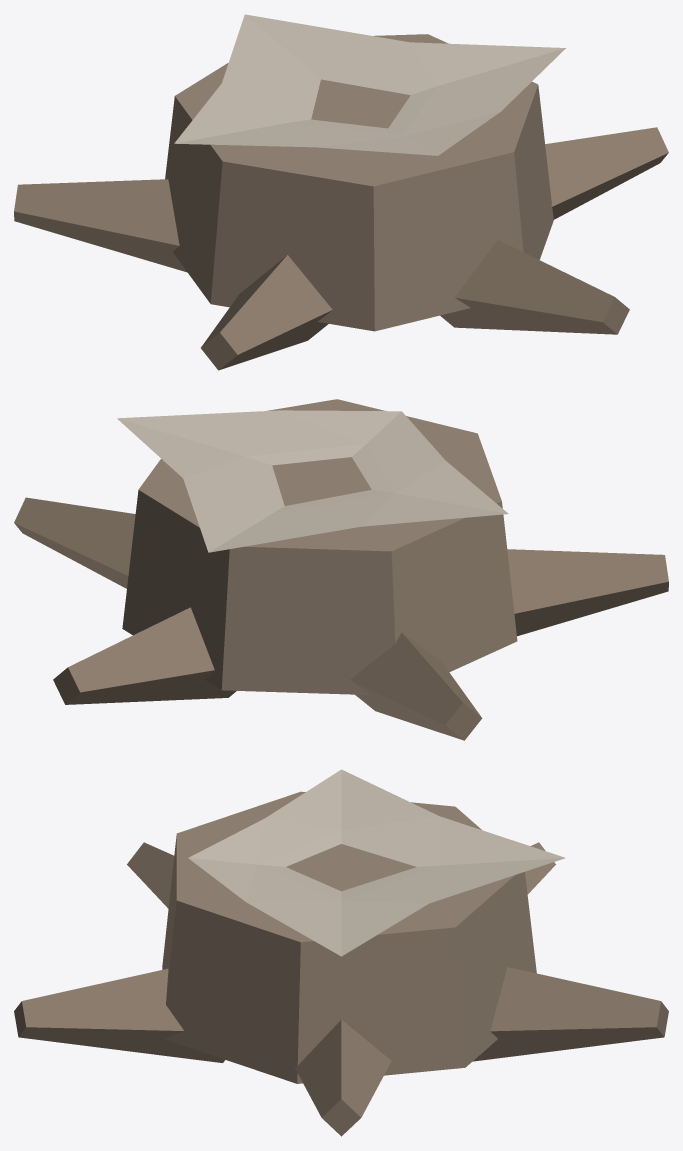
The model's file is stump_v03.glb.
The picture shows the model from 3 angles, top to bottom: view 1: azimuth 30°, elevation 25°; view 2: azimuth 150°, elevation 25°; view 3: azimuth 270°, elevation 25°; orthographic projection. The views are drawn at different scales.
Visible parts, largest first — view 1: lod0; view 2: lod0; view 3: lod0.
Part boxes in pixels (x1,y1,x2,y2): lod0: (14,14,668,370); lod0: (14,399,668,740); lod0: (14,769,668,1136).
Size of what is drawn, in the model's own units: 1.26 by 0.4455 by 1.32.
